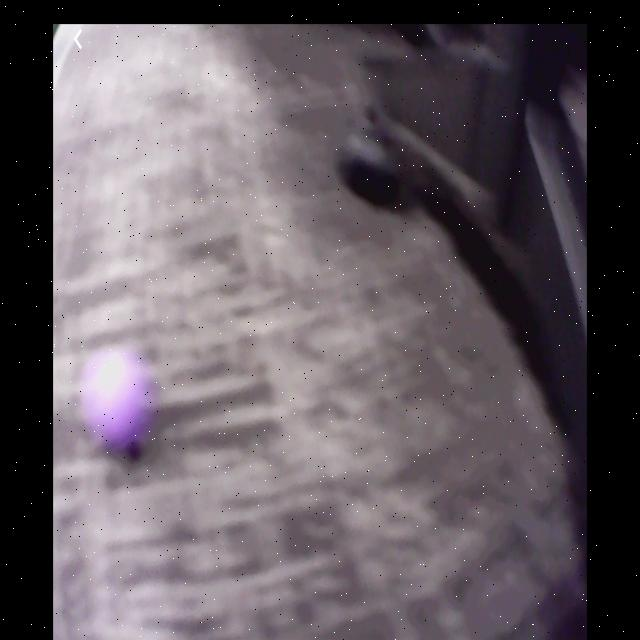ball: (88, 348, 152, 457)
